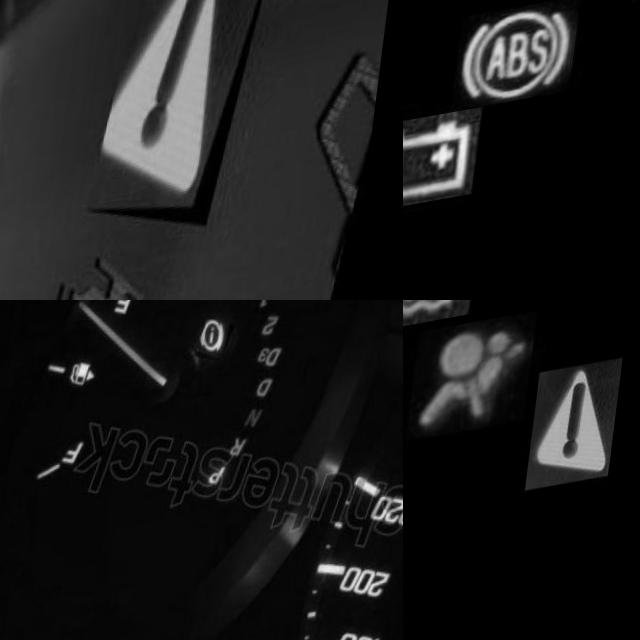Central Warning lamp: (540, 381, 635, 511)
Engine cooling system: (403, 300, 489, 348)
